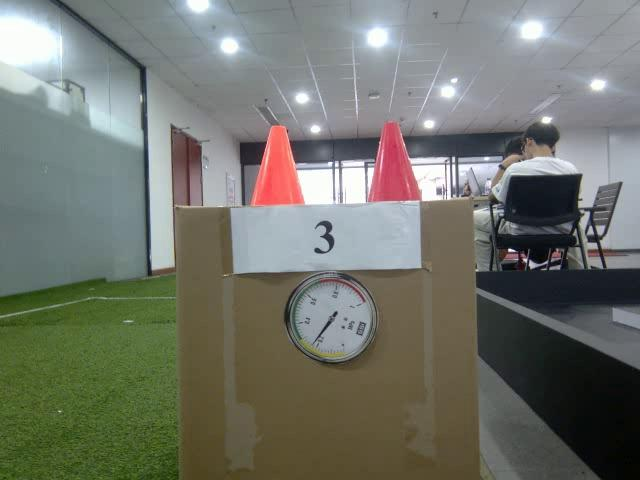3: (314, 218, 336, 257)
Dashboard: (283, 272, 378, 366)
orange_barrel: (250, 124, 306, 207)
red_barrel: (369, 122, 423, 202)
ssi: (356, 318, 367, 338)
